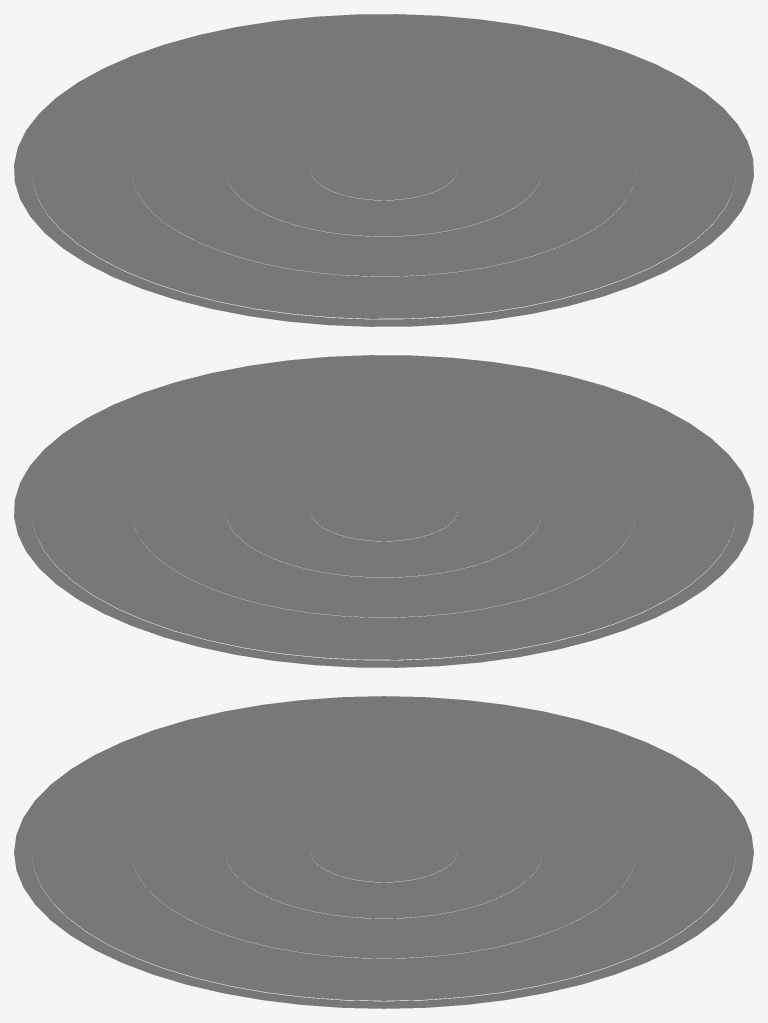
File: plaza.glb
The picture shows the model from 3 angles, top to bottom: view 1: azimuth 30°, elevation 25°; view 2: azimuth 150°, elevation 25°; view 3: azimuth 270°, elevation 25°; orthographic projection.
Visible parts, largest first — view 1: ring3, ring2, ring1, rim, plaza-centre; view 2: ring3, ring2, ring1, rim, plaza-centre; view 3: ring3, ring2, ring1, rim, plaza-centre.
Boxes of the visible parts, bbox=[...] form: ring3: bbox=[31, 21, 736, 318]; ring2: bbox=[131, 63, 636, 276]; ring1: bbox=[225, 102, 542, 236]; rim: bbox=[14, 14, 753, 326]; plaza-centre: bbox=[310, 138, 457, 200]; ring3: bbox=[31, 362, 736, 659]; ring2: bbox=[131, 404, 636, 617]; ring1: bbox=[225, 443, 542, 577]; rim: bbox=[14, 355, 753, 667]; plaza-centre: bbox=[310, 479, 457, 541]; ring3: bbox=[31, 703, 736, 1000]; ring2: bbox=[131, 745, 636, 958]; ring1: bbox=[225, 784, 542, 918]; rim: bbox=[14, 696, 753, 1008]; plaza-centre: bbox=[310, 820, 457, 882].
Size of the model in its own units: 12.6 by 0.025 by 12.6.
3 materials, 3 textured.
